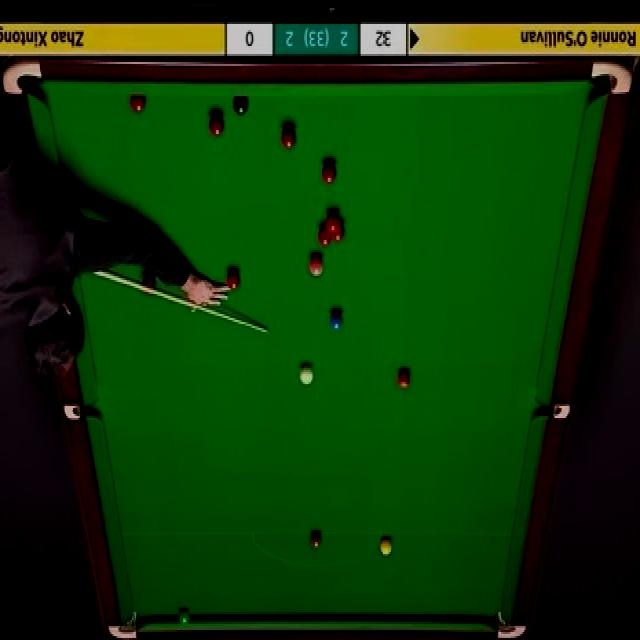black-ball: (233, 94, 251, 116)
blue-ball: (329, 307, 345, 332)
brown-ball: (310, 529, 324, 552)
green-ball: (176, 608, 191, 626)
pink-ball: (310, 253, 326, 279)
red-ball: (224, 265, 242, 293), (281, 123, 299, 150), (321, 157, 338, 185), (209, 111, 226, 137), (397, 366, 413, 391), (141, 272, 156, 297), (318, 222, 332, 246), (130, 94, 146, 114), (326, 210, 339, 230), (332, 222, 345, 242)
white-ball: (298, 360, 316, 388)
yellow-ball: (380, 537, 394, 557)
